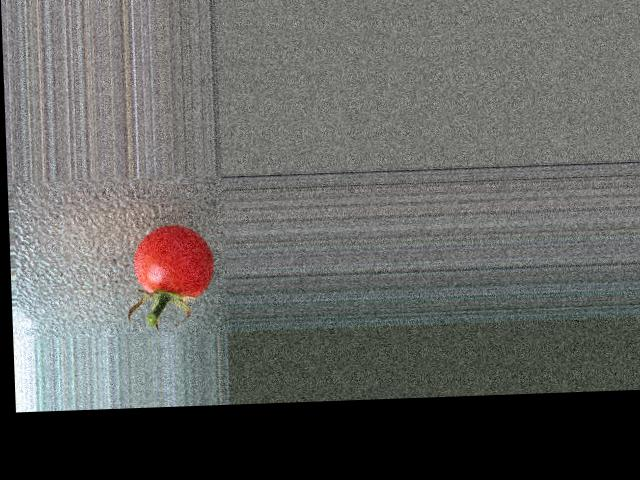tomato: (131, 223, 214, 299)
